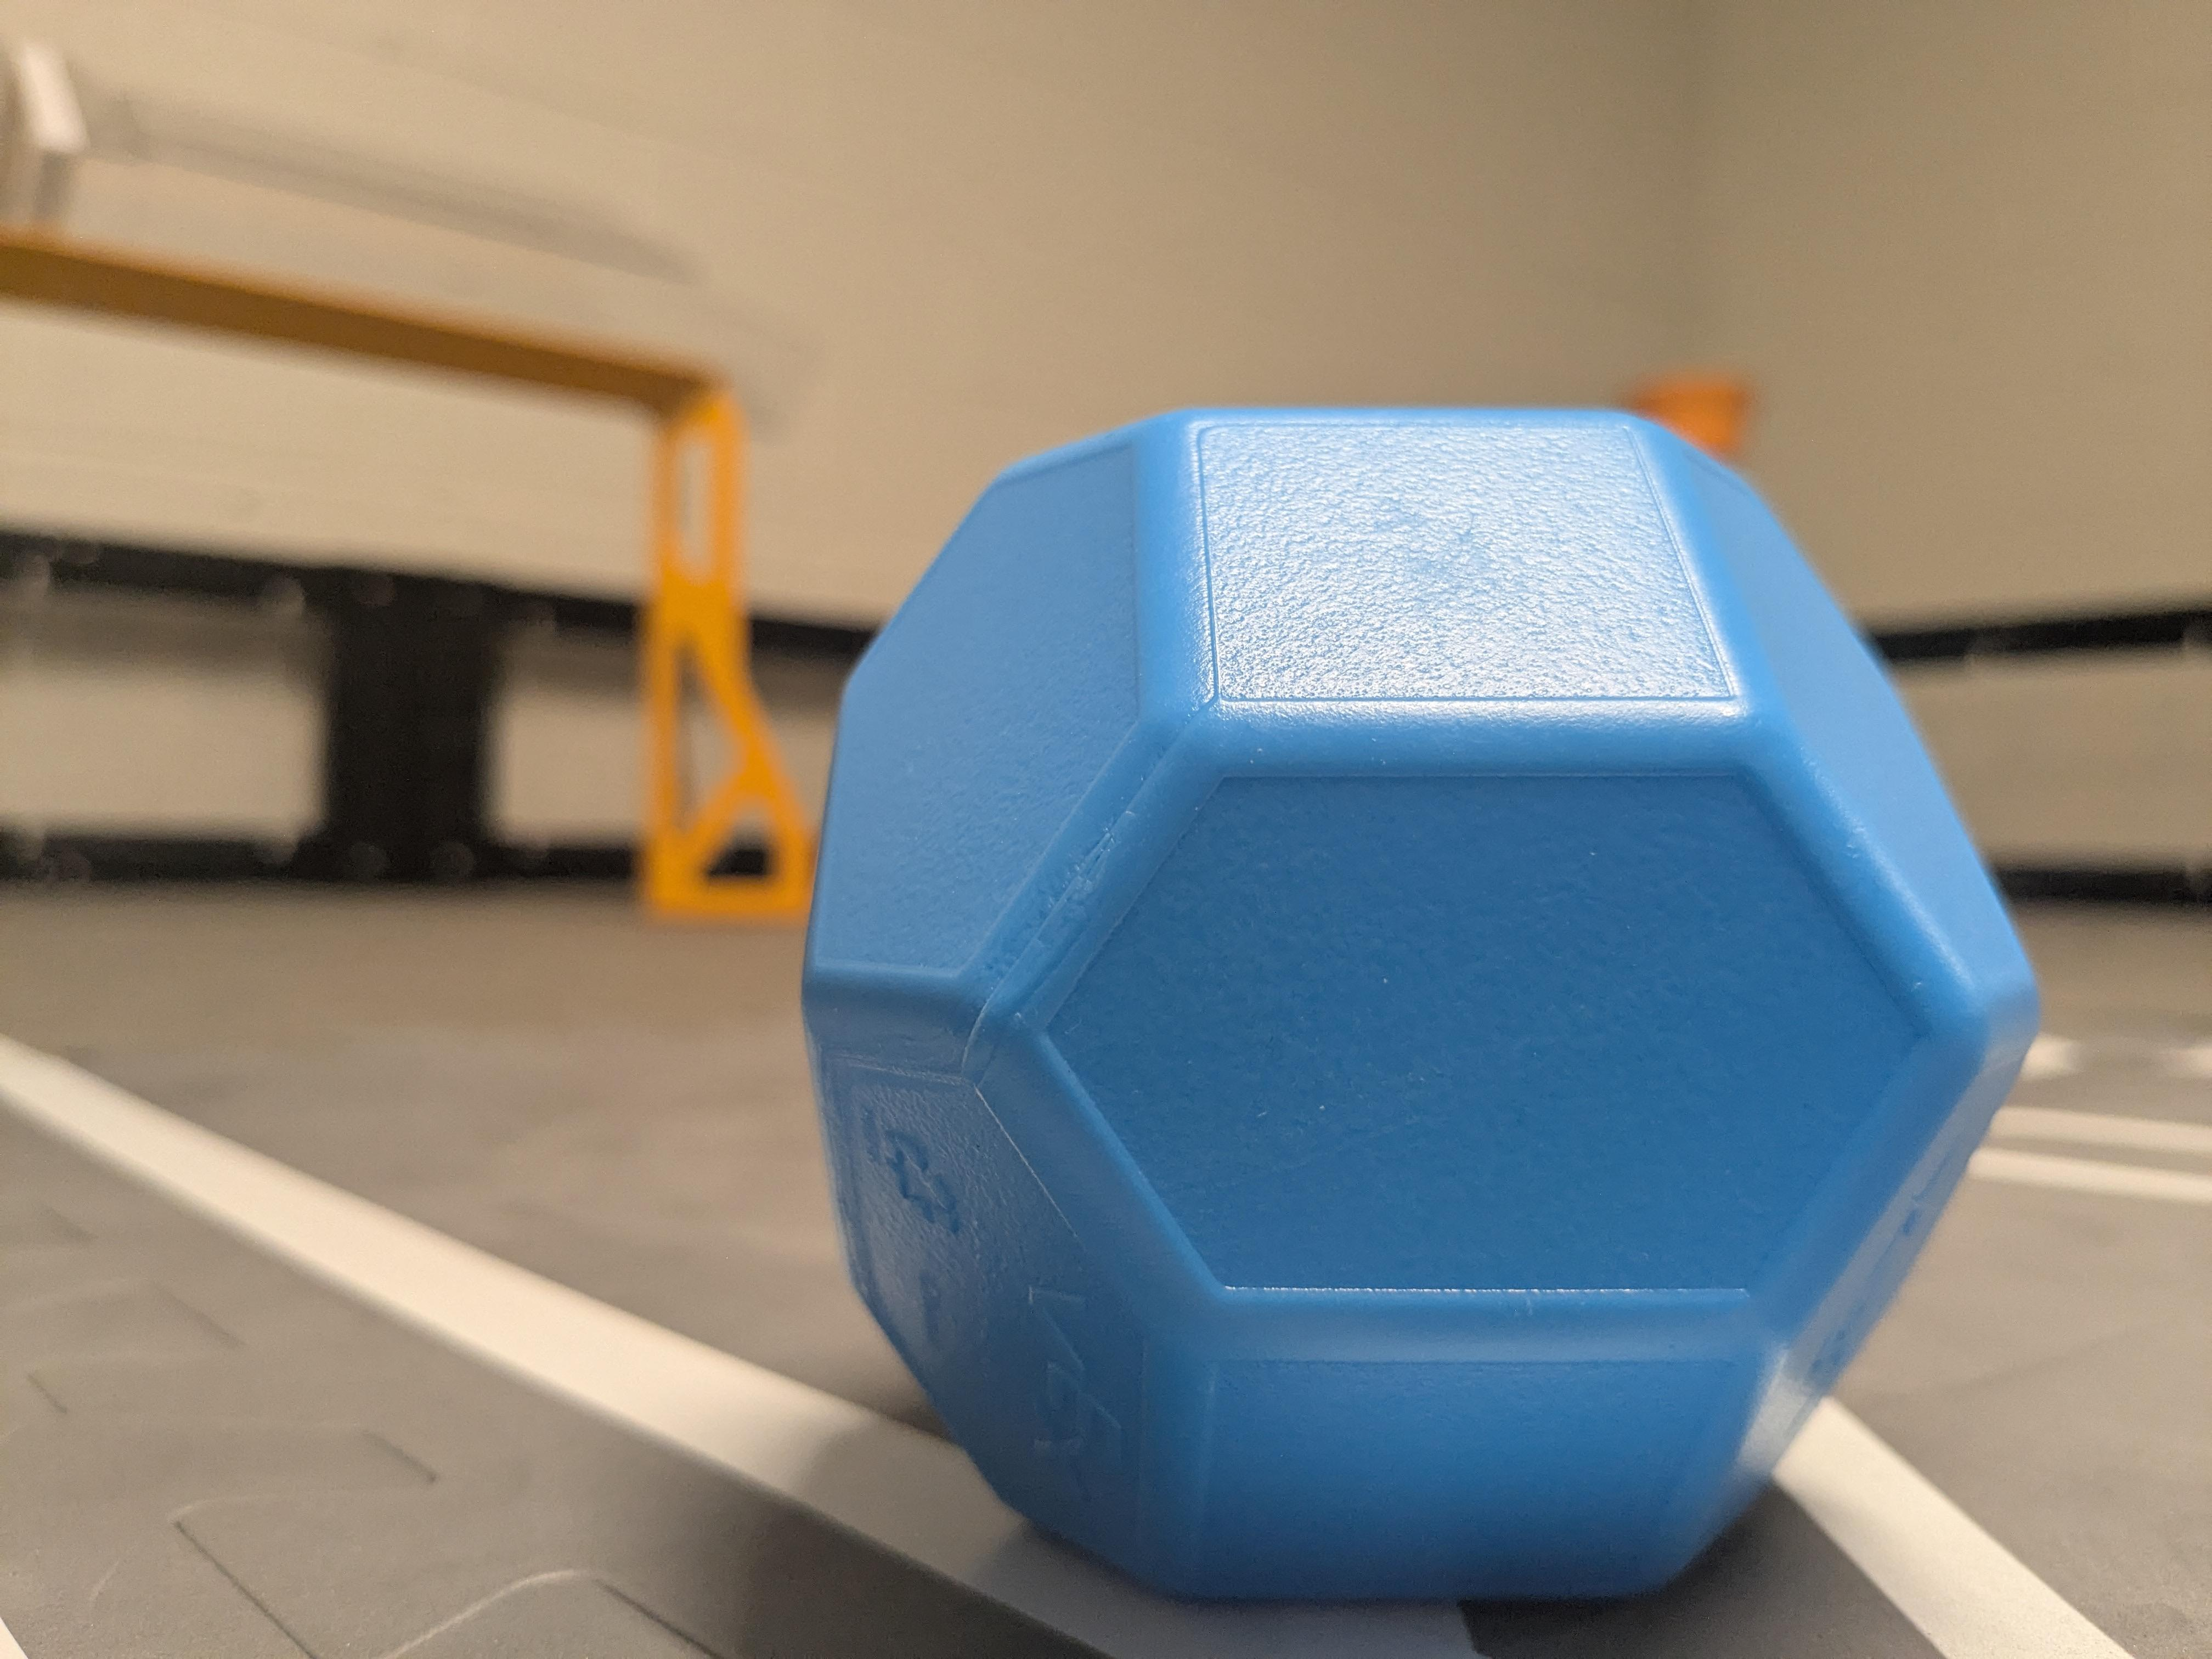Vex-Pieces-BLUE: (803, 410, 2038, 1598)
